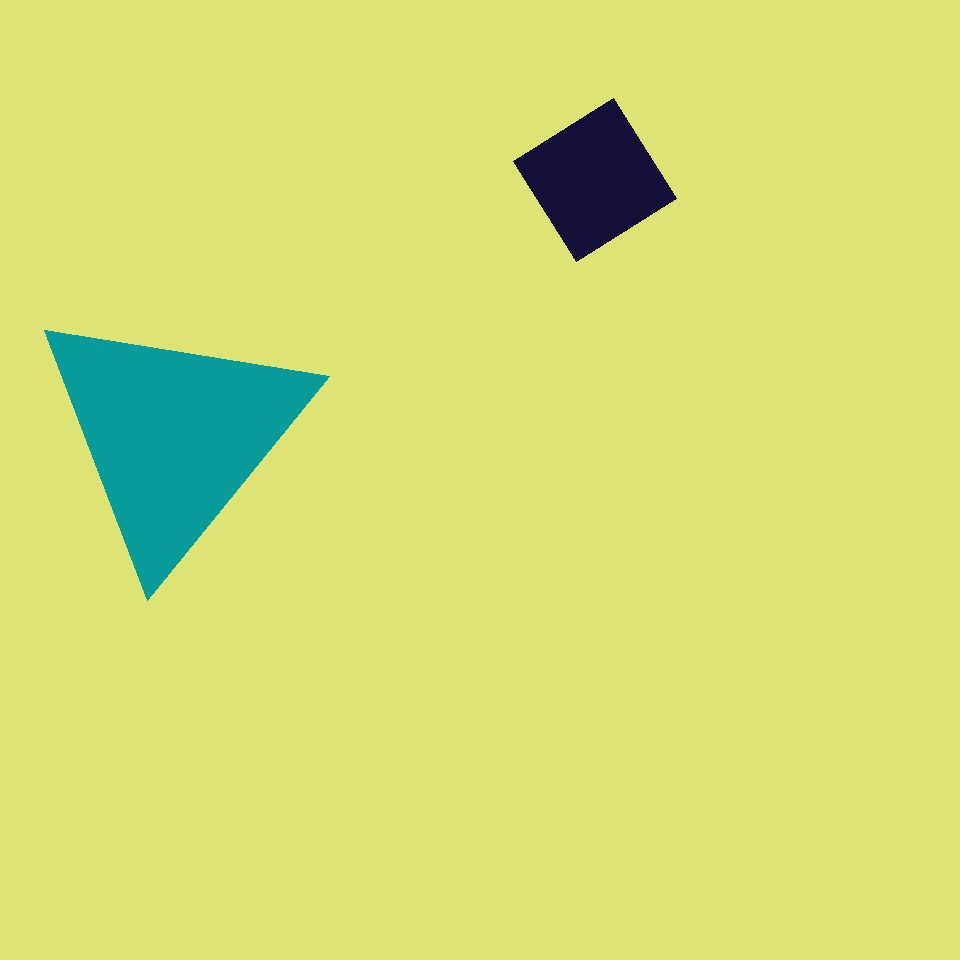circle: (269, 159, 580, 470), (31, 301, 316, 571), (367, 533, 547, 688), (392, 687, 534, 818), (619, 751, 702, 824)
square: (514, 98, 676, 262), (846, 535, 948, 636)
triangle: (638, 295, 917, 573)
